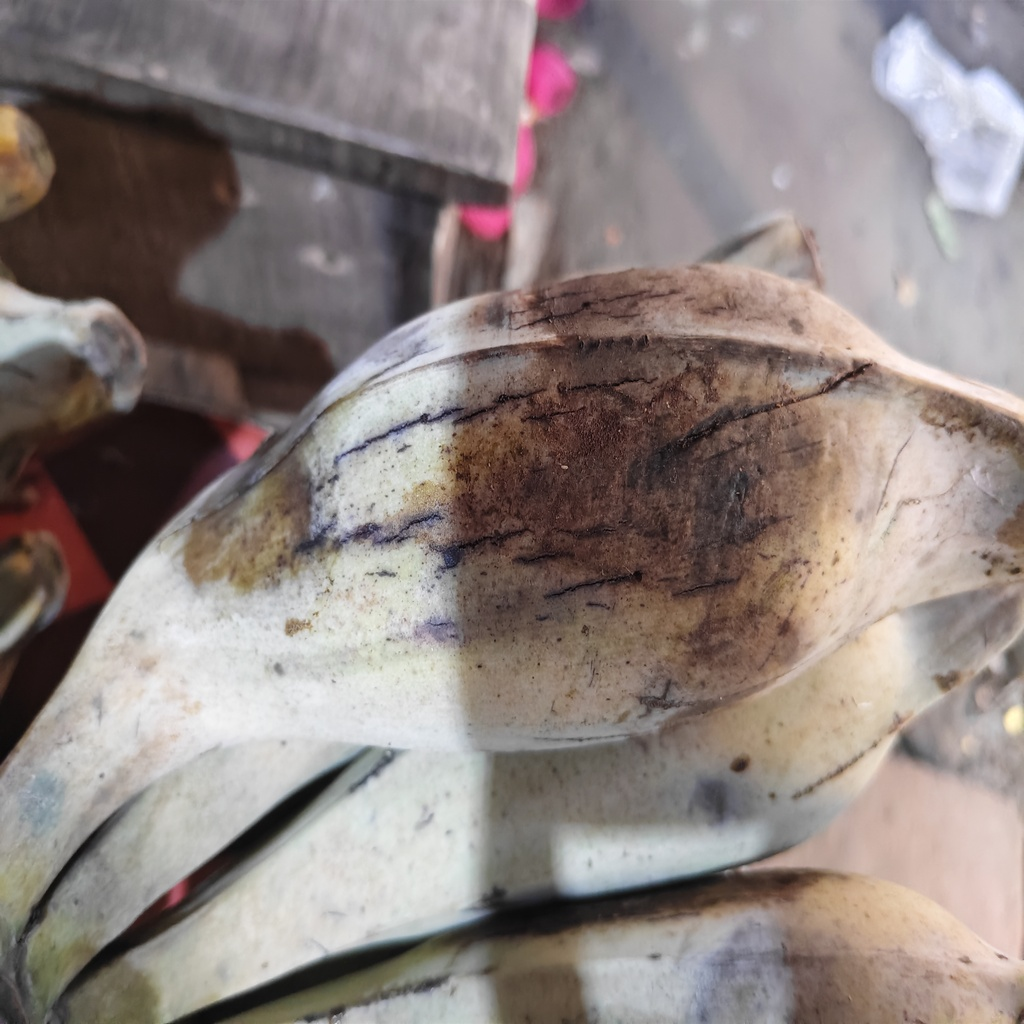unhealthy: (97, 265, 1024, 758)
